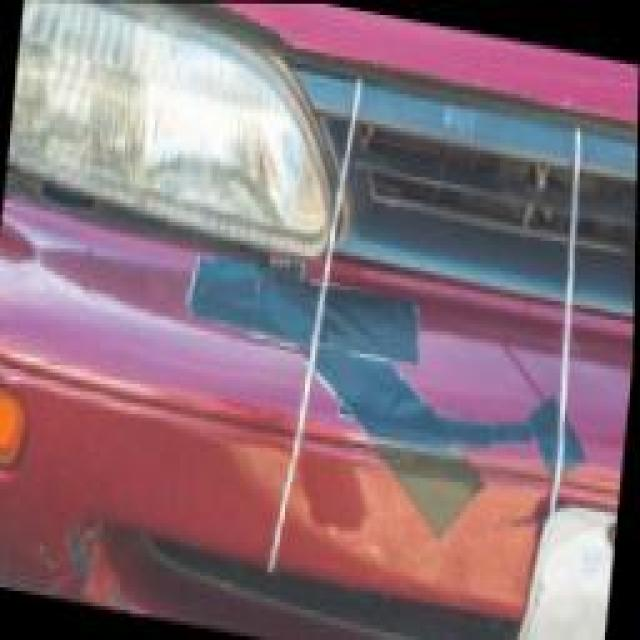Bumper: (12, 196, 627, 640)
